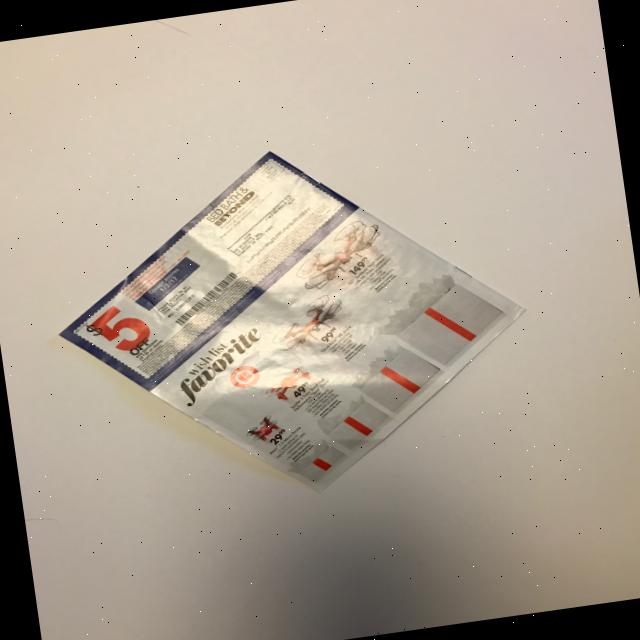paper: (36, 118, 548, 526)
